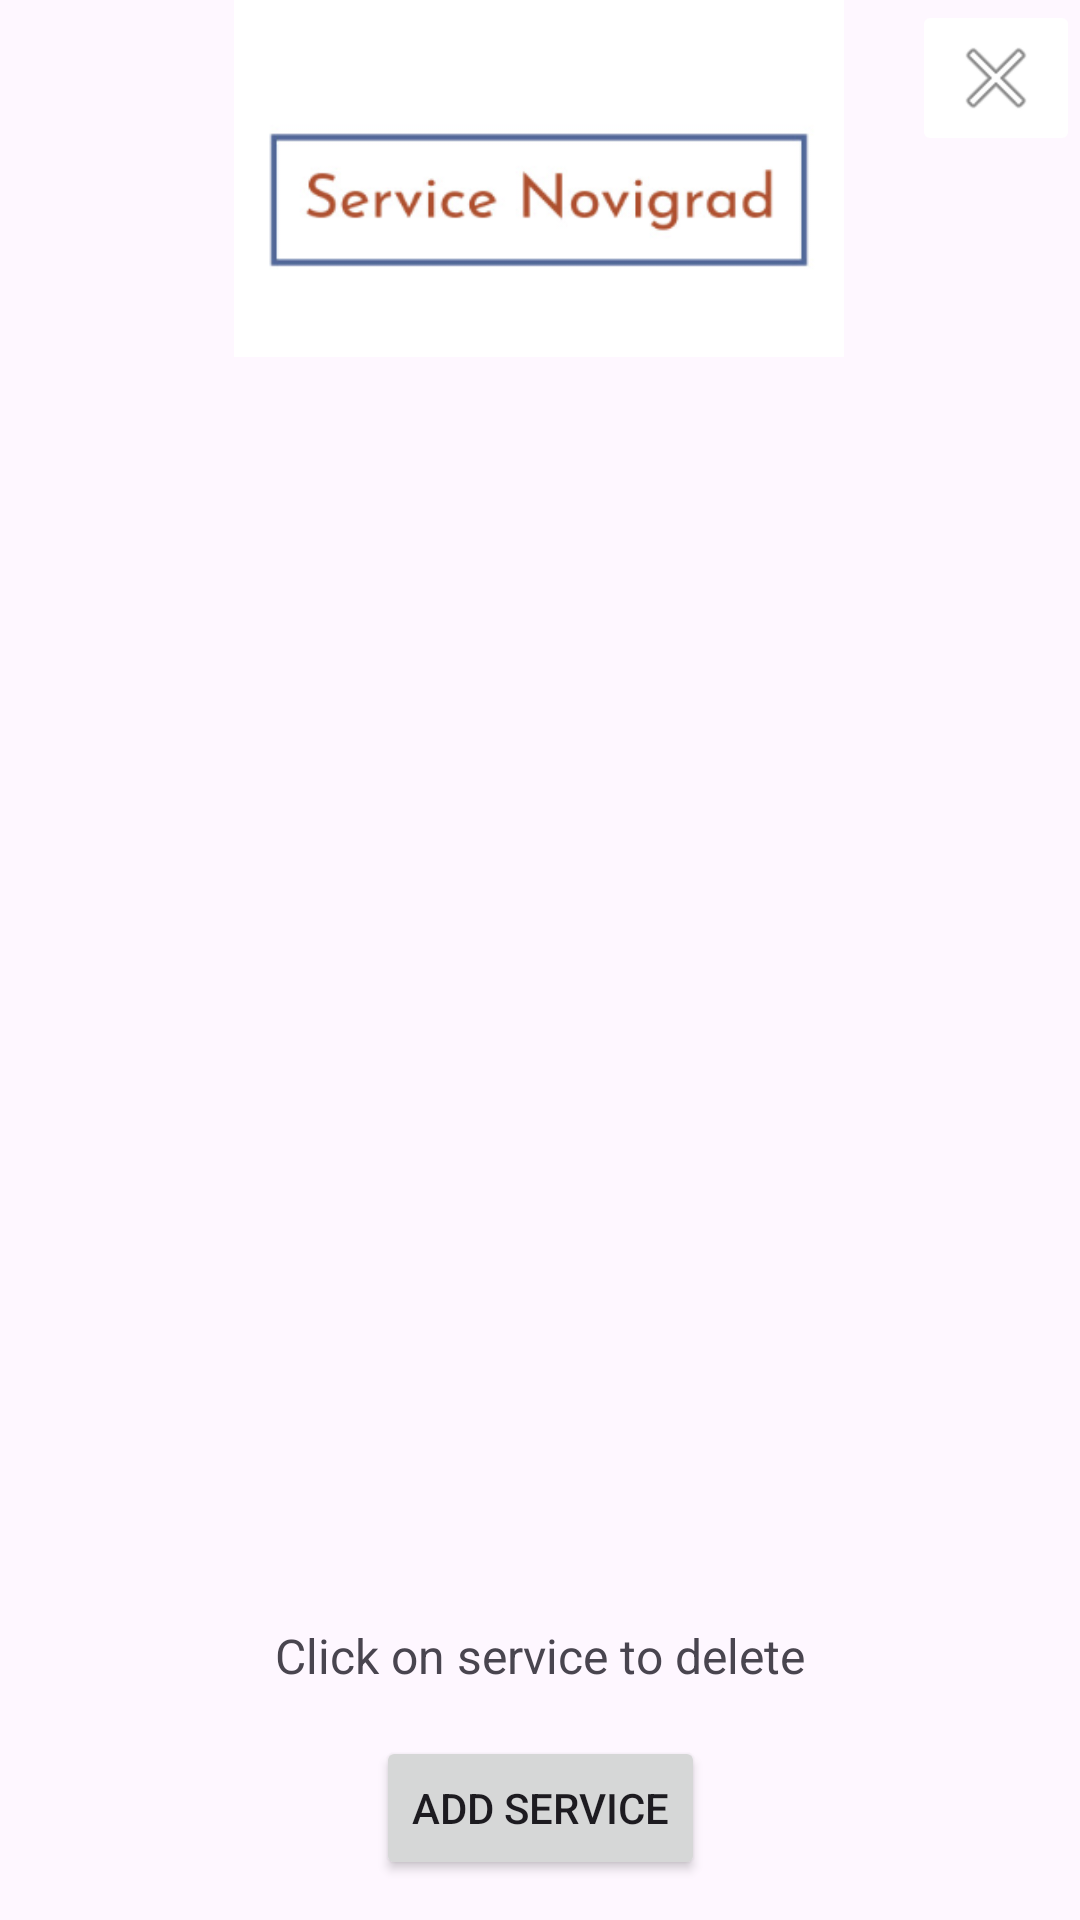

Locate icon controls on the screen. Image size 1080x1920, boxes as [x1,y1,x2,y2].
close clear cancel: [966,48,1026,108]
